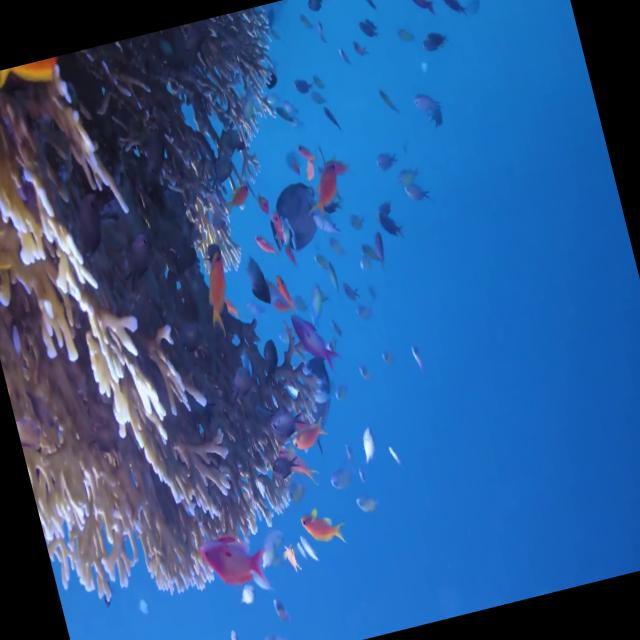fish: (179, 515, 290, 614), (184, 237, 253, 350), (270, 172, 337, 256), (303, 150, 365, 230), (292, 314, 348, 399), (292, 489, 355, 555), (262, 574, 303, 640), (346, 411, 386, 477), (364, 222, 394, 282), (270, 262, 299, 318), (400, 171, 434, 215), (364, 142, 405, 178), (375, 208, 410, 248), (409, 90, 445, 120), (248, 223, 277, 260), (434, 0, 468, 27), (254, 624, 289, 640)
